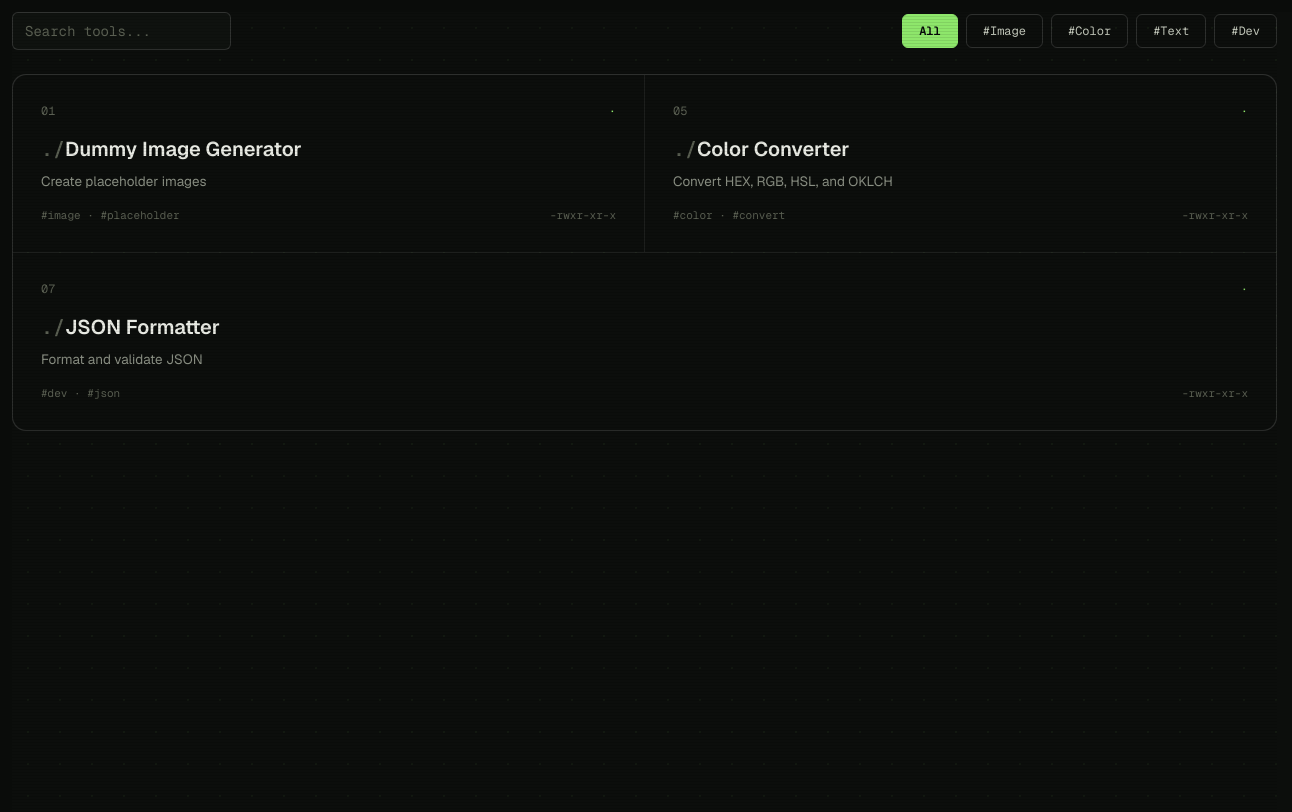
Test case: ToolCatalogBrowser › reset button in the empty state clears the query and category
This screenshot has width=1292, height=812.
Type "nonexistent tool" into the search field labelled "Search tools" at (122,31), box x1=12 y1=12 x2=231 y2=50
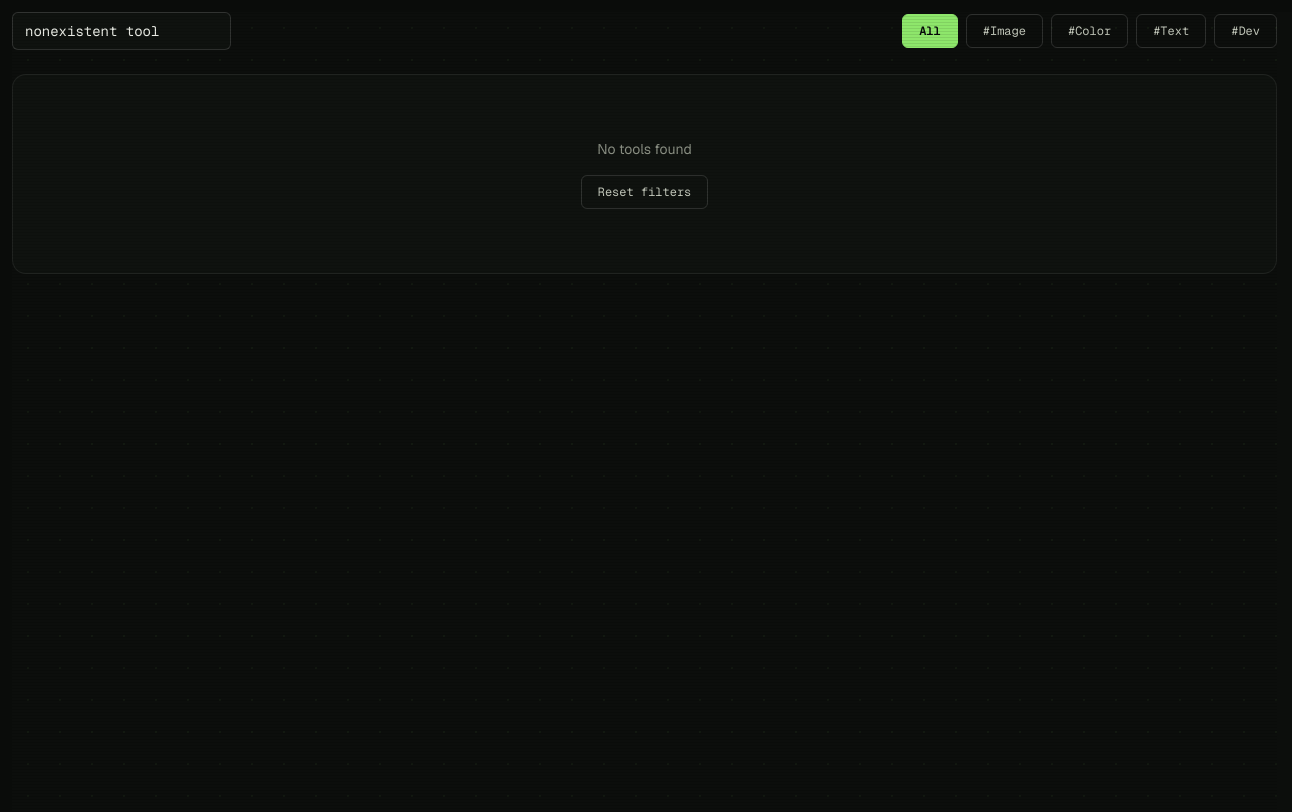
Check: the text "No tools found" is shown, box x1=597 y1=140 x2=692 y2=158
Click the button "Reset filters" at (644,192), box x1=581 y1=175 x2=708 y2=209
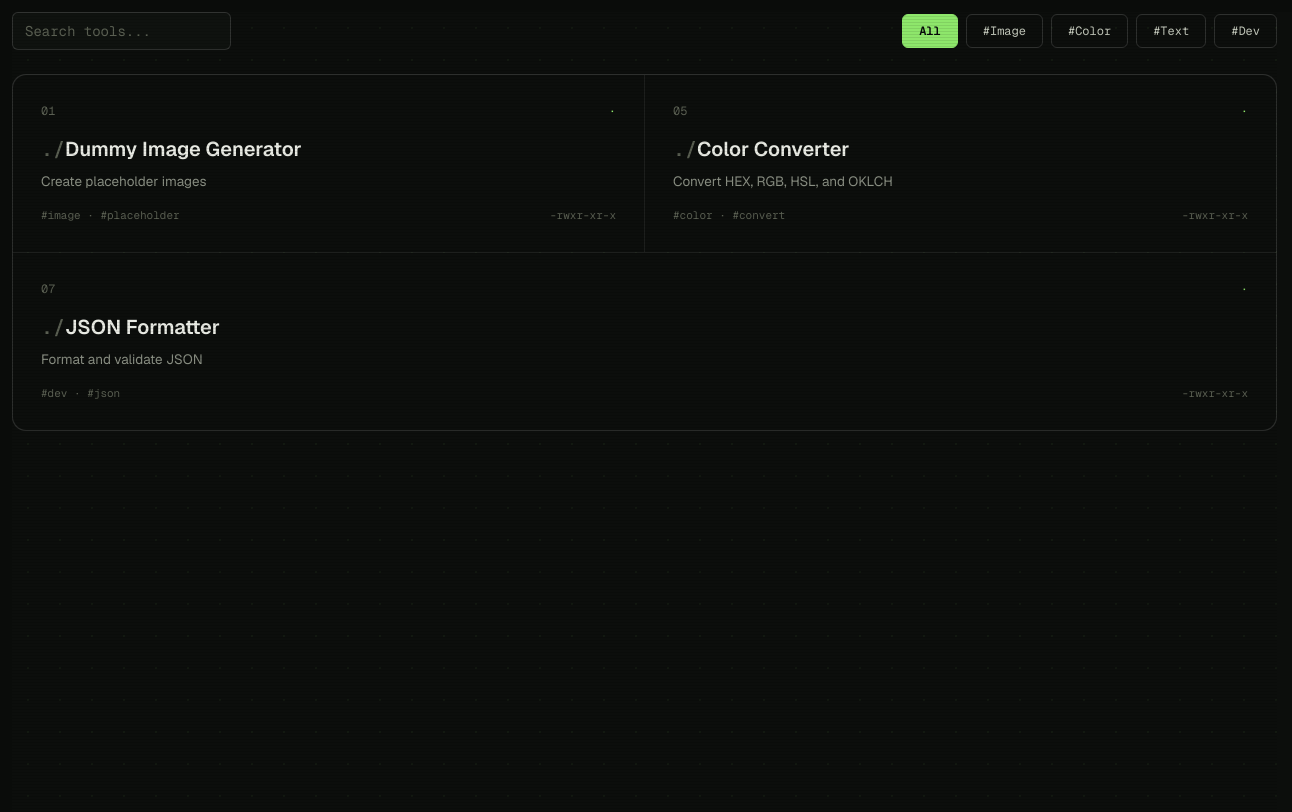
Check: the heading "./Dummy Image Generator" is shown, box x1=41 y1=136 x2=302 y2=162
Check: the heading "./Color Converter" is shown, box x1=673 y1=136 x2=850 y2=162
Check: the heading "./JSON Formatter" is shown, box x1=41 y1=314 x2=220 y2=340
